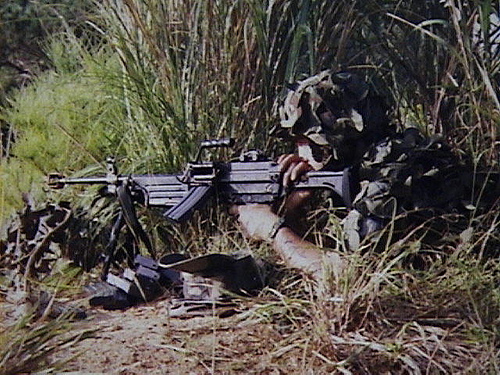rifle: (45, 156, 280, 199)
rifle in hand: (34, 148, 313, 246)
